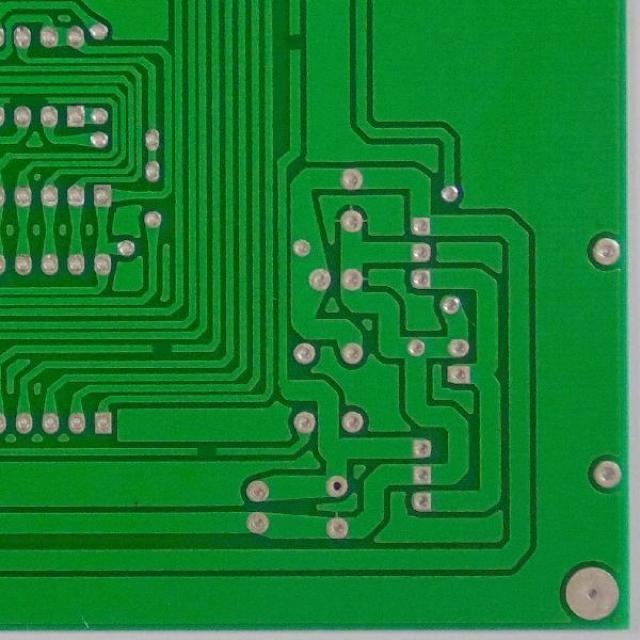Missing_Hole: (324, 474, 350, 498)
Open_Circuit: (282, 23, 306, 66), (186, 442, 224, 460), (4, 94, 56, 106), (146, 340, 182, 354)
